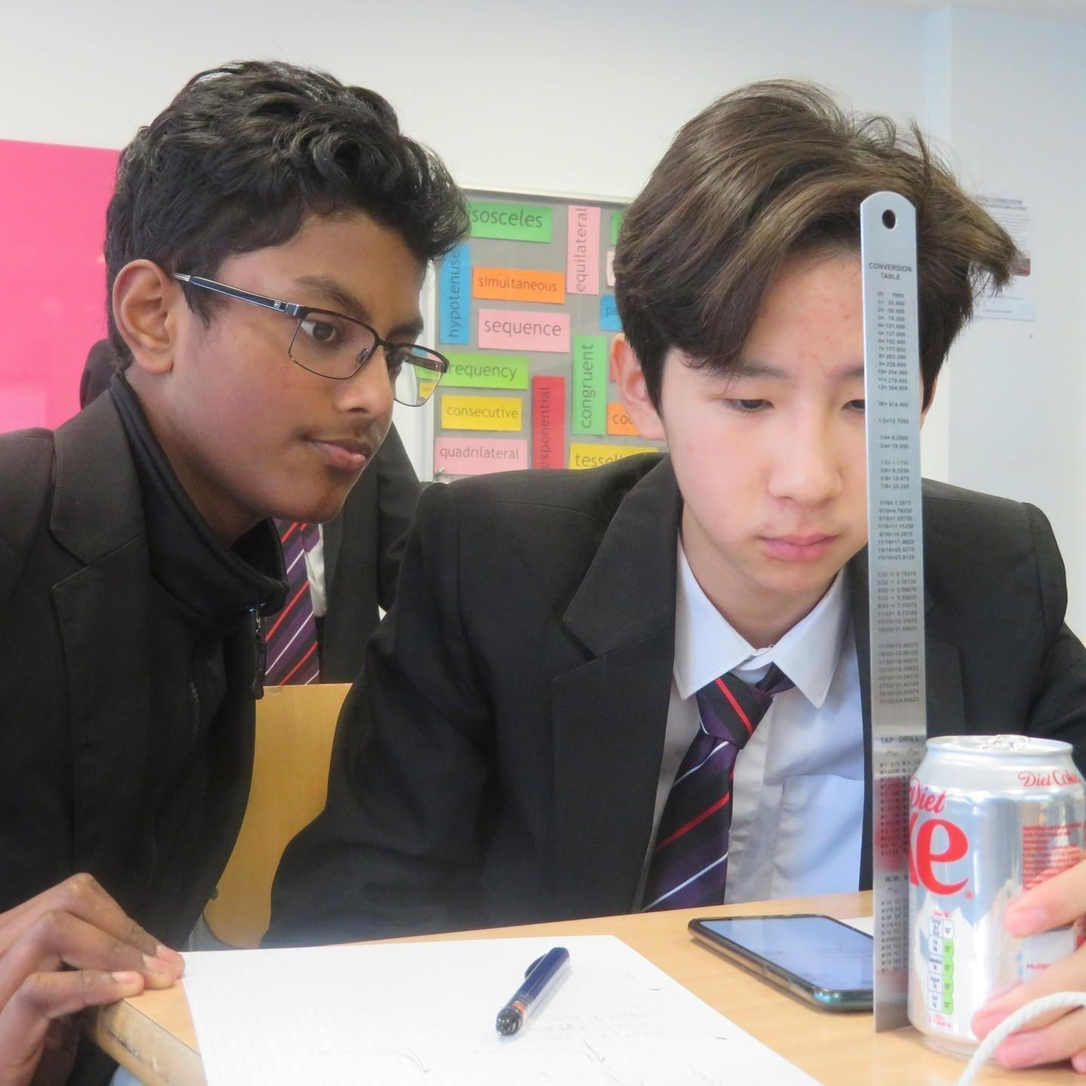tin can: (900, 722, 1086, 1063)
